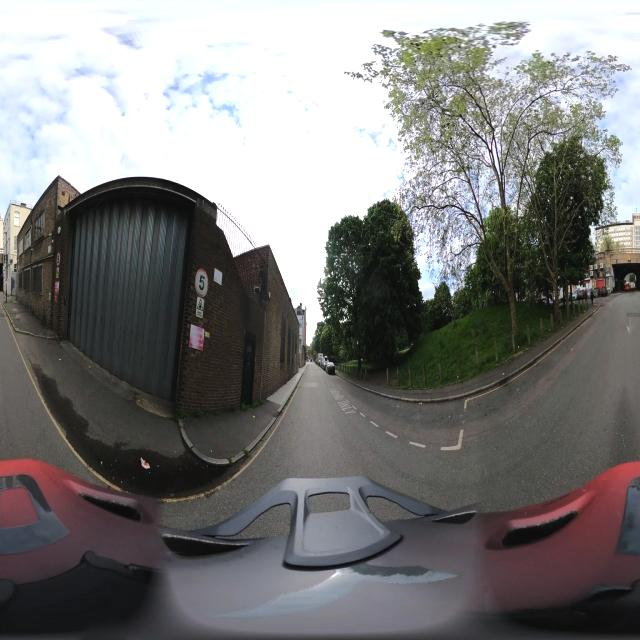car: (624, 273, 636, 291), (326, 357, 336, 375)
